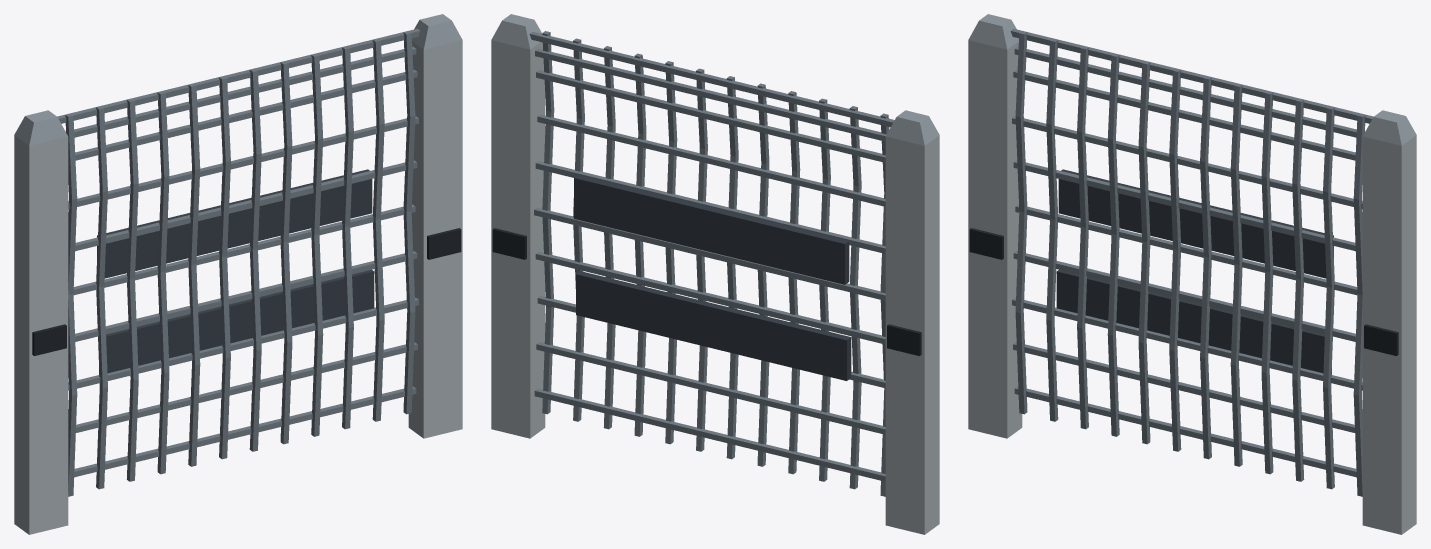
File: mesh-fence-panel-11d4e2.glb
3 views of the same model, side by side, from view 1: azimuth 30°, elevation 25°; view 2: azimuth 150°, elevation 25°; view 3: azimuth 330°, elevation 25° (orthographic).
Parts seen in each view (by area): view 1: fence-panel-mesh; view 2: fence-panel-mesh; view 3: fence-panel-mesh.
Part boxes in pixels (x1,y1,x2,y2): fence-panel-mesh: [14, 14, 462, 534]; fence-panel-mesh: [491, 14, 939, 534]; fence-panel-mesh: [968, 14, 1416, 534].
Bounding box in the file's own units: 2 × 1.8 × 0.15.
